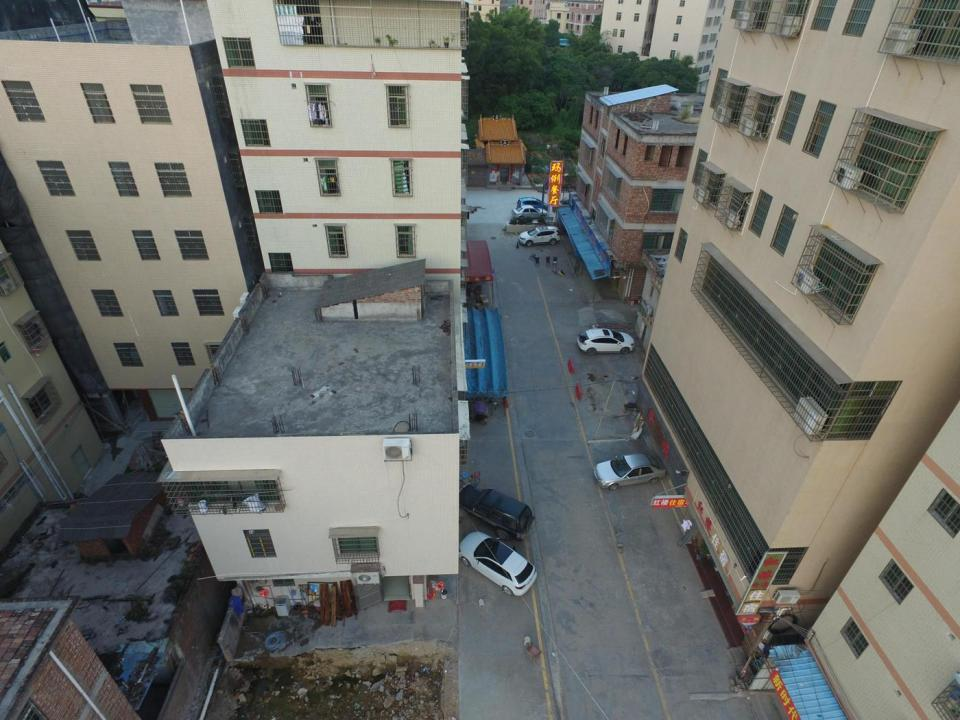car: (460, 534, 537, 594), (593, 452, 667, 490), (578, 327, 636, 353), (519, 226, 561, 246), (511, 204, 548, 221), (516, 197, 550, 212)
van: (457, 482, 535, 541)
